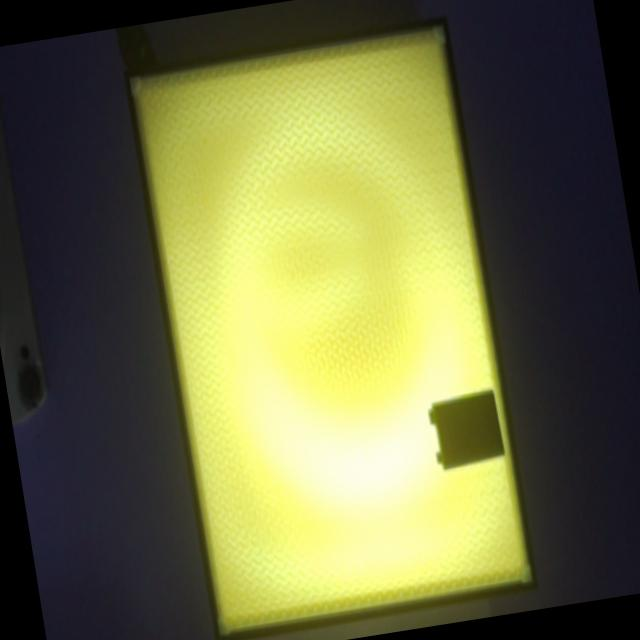Bateria: (434, 391, 505, 470)
Mesa: (124, 16, 537, 640)
Pestana: (429, 410, 436, 423), (437, 453, 442, 464)
